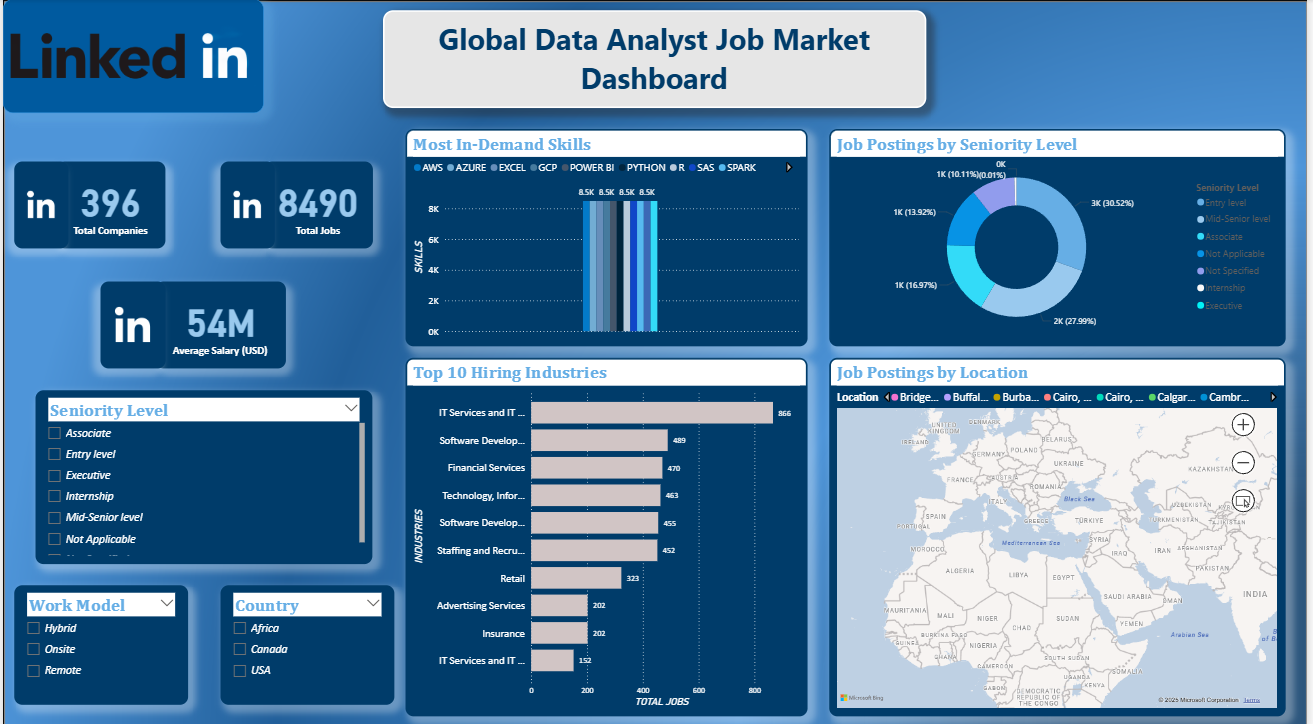

What the dashboard file says about the page in this screenshot:
{"tool":"powerbi","page":{"name":"Page 1","canvas":[1920,1080],"ordinal":0},"visuals":[{"type":"image","box":[0,0,384,168],"z":0},{"type":"textbox","box":[560,16,800,144],"z":1000},{"type":"slicer","fields":{"Values":["cleaned_global_linkedin_jobs.country"]},"box":[320,864,256,176],"z":2000},{"type":"slicer","fields":{"Values":["cleaned_global_linkedin_jobs.seniority_level"]},"box":[48,576,496,256],"z":3000},{"type":"slicer","fields":{"Values":["cleaned_global_linkedin_jobs.work_model"]},"box":[16,864,256,176],"z":4000},{"type":"card","fields":{"Values":["cleaned_global_linkedin_jobs.Total Jobs"]},"box":[384,240,160,128],"z":5000},{"type":"card","fields":{"Values":["cleaned_global_linkedin_jobs.Total Companies"]},"box":[80,240,160,128],"z":7000},{"type":"card","fields":{"Values":["Sum(cleaned_global_linkedin_jobs.average_salary)"]},"box":[224,416,192,128],"z":8000},{"type":"map","title":"Job Postings by Location","fields":{"Series":["cleaned_global_linkedin_jobs.location"],"Size":["cleaned_global_linkedin_jobs.Total Jobs"]},"box":[1216,528,672,528],"z":9000},{"type":"clusteredBarChart","title":"Top 10 Hiring Industries","fields":{"Category":["cleaned_global_linkedin_jobs.industries"],"Y":["cleaned_global_linkedin_jobs.Total Jobs"]},"box":[592,528,592,528],"z":10000},{"type":"donutChart","title":"Job Postings by Seniority Level","fields":{"Category":["cleaned_global_linkedin_jobs.seniority_level"],"Y":["cleaned_global_linkedin_jobs.Total Jobs"]},"box":[1216,192,672,320],"z":11000},{"type":"clusteredColumnChart","title":"Most In-Demand Skills","fields":{"Y":["CountNonNull(cleaned_global_linkedin_jobs.mentions_aws)","CountNonNull(cleaned_global_linkedin_jobs.mentions_azure)","CountNonNull(cleaned_global_linkedin_jobs.mentions_excel)","CountNonNull(cleaned_global_linkedin_jobs.mentions_gcp)","CountNonNull(cleaned_global_linkedin_jobs.mentions_power bi)","CountNonNull(cleaned_global_linkedin_jobs.mentions_python)","CountNonNull(cleaned_global_linkedin_jobs.mentions_r)","CountNonNull(cleaned_global_linkedin_jobs.mentions_sas)","CountNonNull(cleaned_global_linkedin_jobs.mentions_spark)","CountNonNull(cleaned_global_linkedin_jobs.mentions_sql)","CountNonNull(cleaned_global_linkedin_jobs.mentions_tableau)"]},"box":[592,192,592,320],"z":12000},{"type":"image","box":[16,240,80,128],"z":13000},{"type":"image","box":[144,416,96,128],"z":14000},{"type":"image","box":[320,240,80,128],"z":15000}]}

Visuals, with their boxes in screenshot pixels (x1, y1, x2, y2), scaled from the page's 1920x1080 canvas onto the 1313x724 screenshot:
image: <bbox>0, 0, 263, 113</bbox>
textbox: <bbox>383, 11, 930, 107</bbox>
slicer - cleaned_global_linkedin_jobs.country: <bbox>219, 579, 394, 697</bbox>
slicer - cleaned_global_linkedin_jobs.seniority_level: <bbox>33, 386, 372, 558</bbox>
slicer - cleaned_global_linkedin_jobs.work_model: <bbox>11, 579, 186, 697</bbox>
card - cleaned_global_linkedin_jobs.Total Jobs: <bbox>263, 161, 372, 247</bbox>
card - cleaned_global_linkedin_jobs.Total Companies: <bbox>55, 161, 164, 247</bbox>
card - Sum(cleaned_global_linkedin_jobs.average_salary): <bbox>153, 279, 284, 365</bbox>
"Job Postings by Location" map: <bbox>832, 354, 1291, 708</bbox>
"Top 10 Hiring Industries" clusteredBarChart: <bbox>405, 354, 810, 708</bbox>
"Job Postings by Seniority Level" donutChart: <bbox>832, 129, 1291, 343</bbox>
"Most In-Demand Skills" clusteredColumnChart: <bbox>405, 129, 810, 343</bbox>
image: <bbox>11, 161, 66, 247</bbox>
image: <bbox>98, 279, 164, 365</bbox>
image: <bbox>219, 161, 274, 247</bbox>
